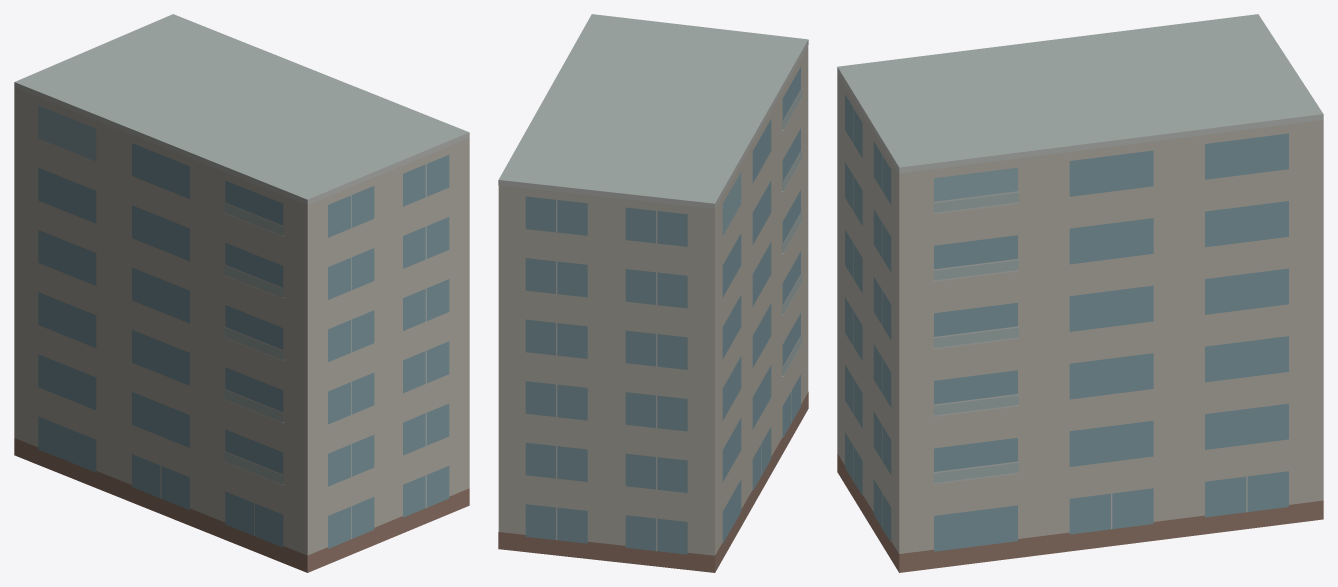
File: survey-upis-32563461.glb
3 views of the same model, side by side, from view 1: azimuth 30°, elevation 25°; view 2: azimuth 150°, elevation 25°; view 3: azimuth 270°, elevation 25° (orthographic). The views are drawn at different scales.
Parts seen in each view (by area): view 1: survey-upis-32563461.tmp; view 2: survey-upis-32563461.tmp; view 3: survey-upis-32563461.tmp.
Boxes of the visible parts, left/top/right/bottom form: survey-upis-32563461.tmp: left=14, top=14, right=469, bottom=572; survey-upis-32563461.tmp: left=498, top=14, right=808, bottom=572; survey-upis-32563461.tmp: left=837, top=14, right=1323, bottom=572.
Bounding box in the file's own units: 13.66 × 16.8 × 18.27.
